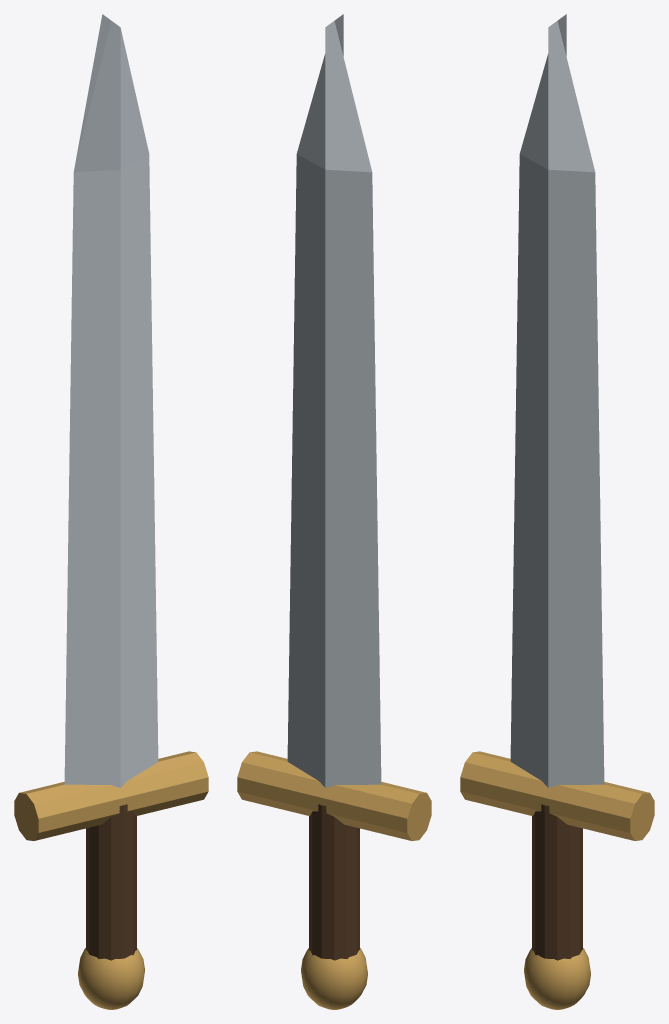
File: quickSword.glb
3 views of the same model, side by side, from view 1: azimuth 30°, elevation 25°; view 2: azimuth 150°, elevation 25°; view 3: azimuth 330°, elevation 25° (orthographic).
Parts seen in each view (by area): view 1: Longsword_Quick; view 2: Longsword_Quick; view 3: Longsword_Quick.
Boxes of the visible parts, <box> form: Longsword_Quick: <box>14,14,208,1009</box>; Longsword_Quick: <box>237,14,431,1009</box>; Longsword_Quick: <box>460,14,654,1009</box>.
Size of the model in its own units: 0.162 by 0.8976 by 0.056.
